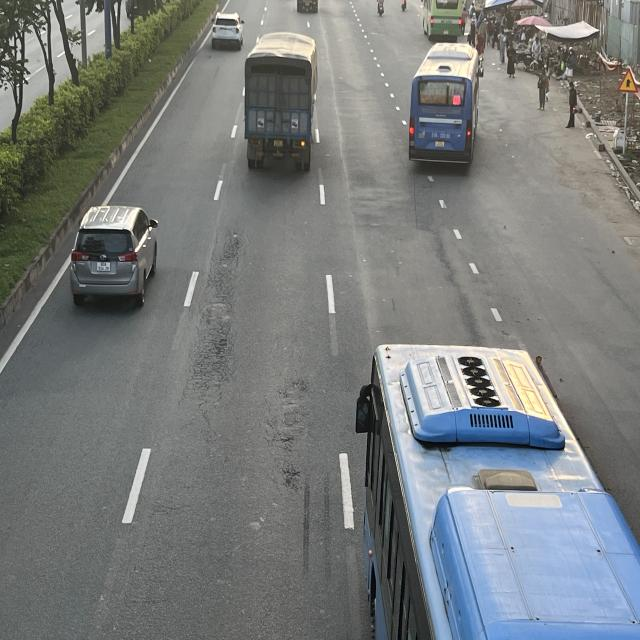car: (72, 202, 162, 305), (210, 13, 244, 52)
coach: (355, 343, 640, 638), (408, 40, 484, 167), (422, 0, 468, 39)
truck: (243, 32, 320, 176)
